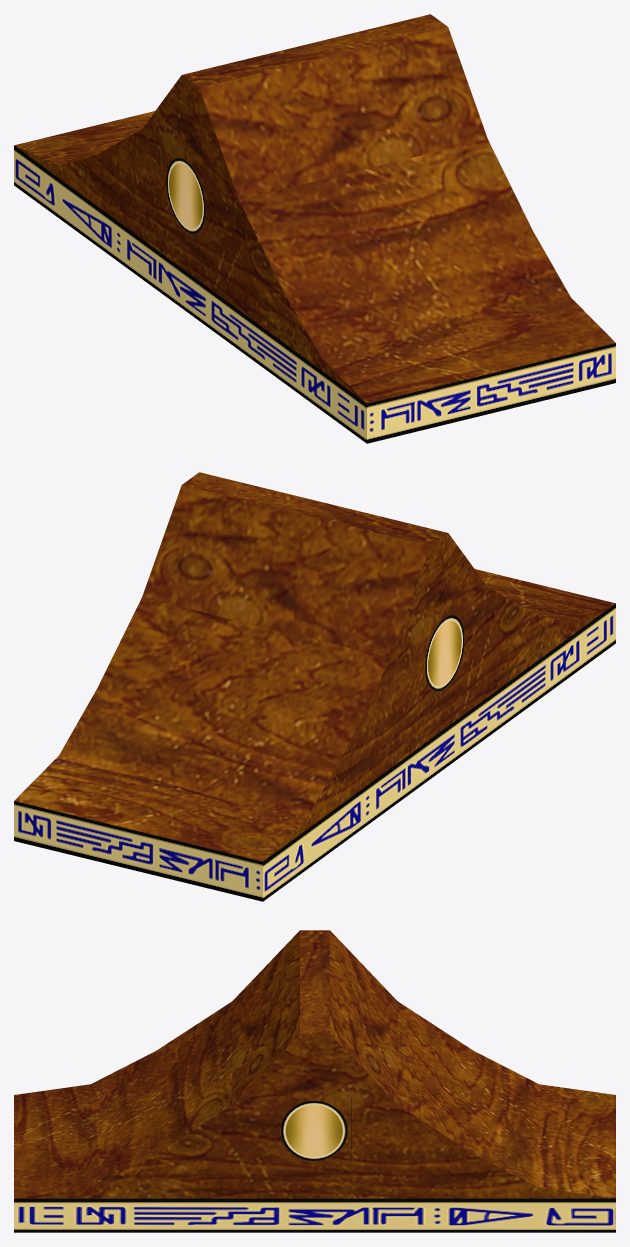
The model's file is jungle_halframp.gltf.
The picture shows the model from 3 angles, top to bottom: view 1: azimuth 30°, elevation 25°; view 2: azimuth 150°, elevation 25°; view 3: azimuth 270°, elevation 25°; orthographic projection. The views are drawn at different scales.
Parts seen in each view (by area): view 1: jungle_halframp_glb; view 2: jungle_halframp_glb; view 3: jungle_halframp_glb.
Part boxes in pixels (box(x1,y1,x2,y2)): jungle_halframp_glb: box(14, 14, 615, 443); jungle_halframp_glb: box(14, 472, 615, 901); jungle_halframp_glb: box(14, 930, 615, 1232).
Size of what is drawn, in the model's own units: 1.67 by 1.46 by 4.
Materials: 2 (2 with a texture image).
